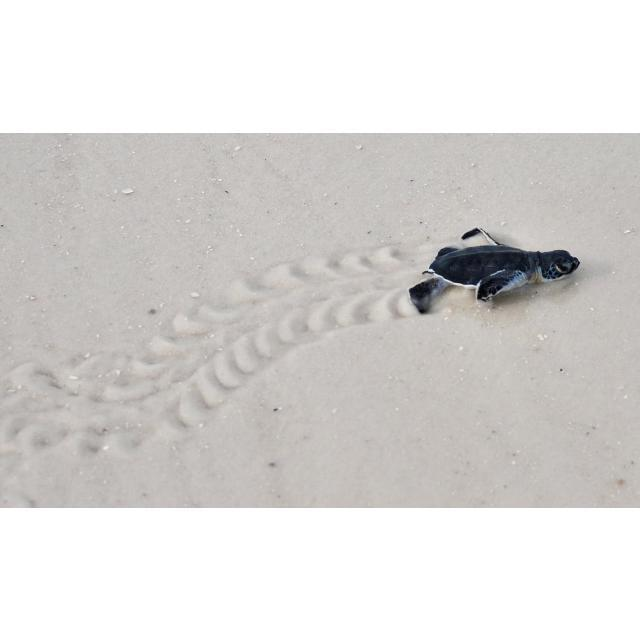turtle: (408, 228, 582, 317)
